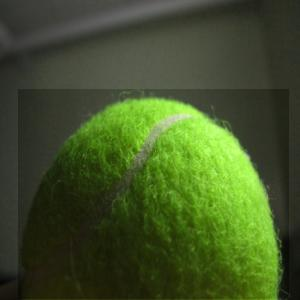TennisBall: (19, 90, 291, 300)
